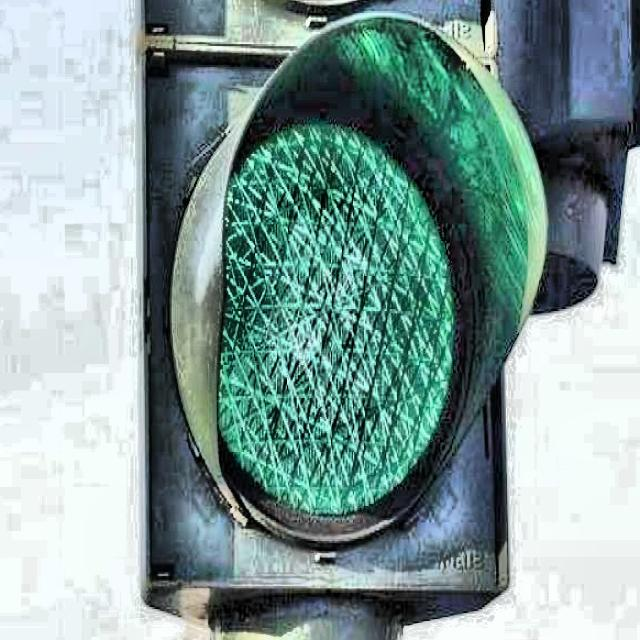green: (184, 8, 530, 526)
